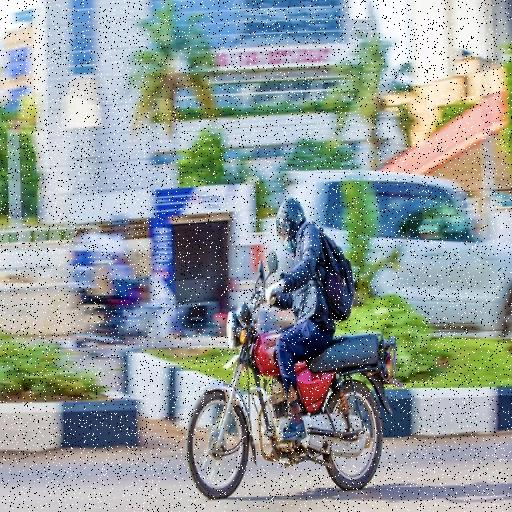Helmet: (267, 192, 313, 257)
Motor: (176, 308, 386, 498)
